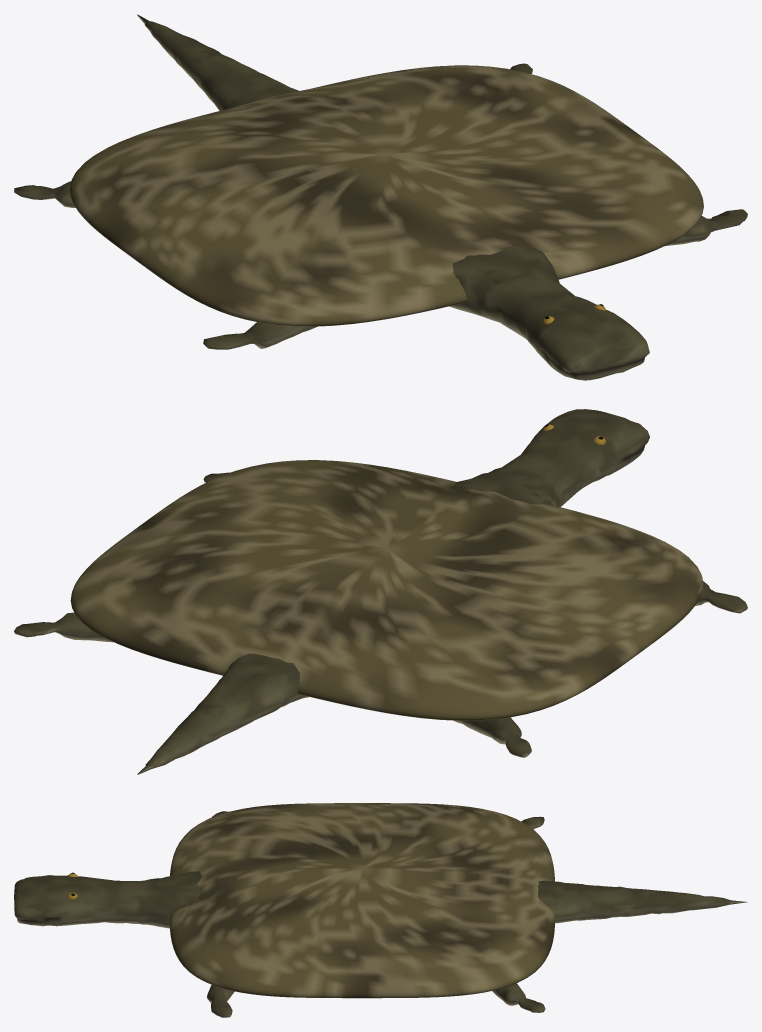
File: Henodus.fbx
3 views of the same model, one above another, from view 1: azimuth 30°, elevation 25°; view 2: azimuth 150°, elevation 25°; view 3: azimuth 270°, elevation 25° (orthographic). The views are drawn at different scales.
Parts seen in each view (by area): view 1: Henodus; view 2: Henodus; view 3: Henodus.
Part boxes in pixels (bbox=[...]): Henodus: bbox=[14, 14, 747, 380]; Henodus: bbox=[14, 409, 747, 774]; Henodus: bbox=[14, 803, 747, 1017].
Size of the model in its own units: 1.25 by 0.1605 by 1.9.
